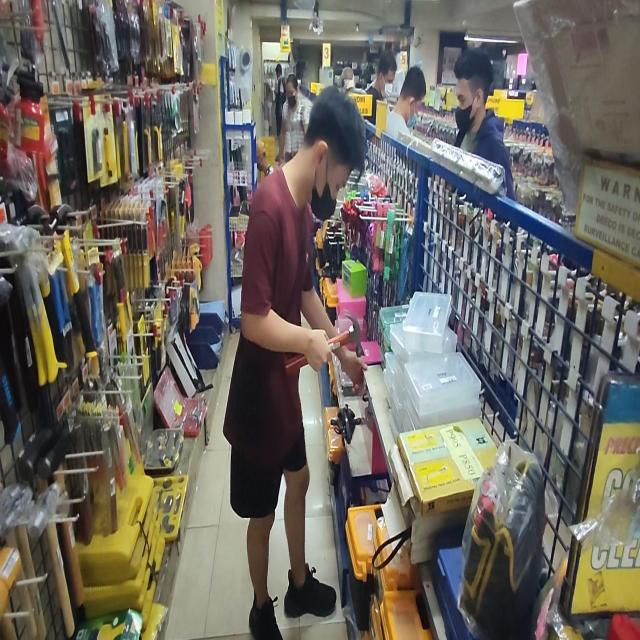hammer: (284, 309, 363, 376)
